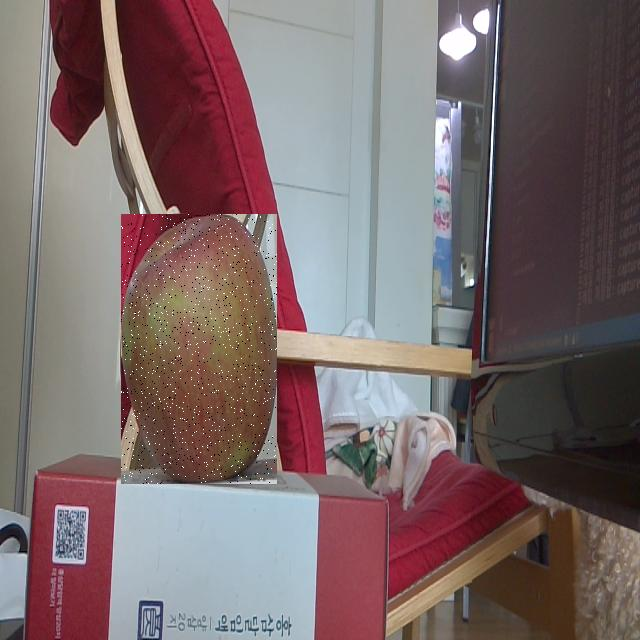apple: (121, 214, 277, 484)
